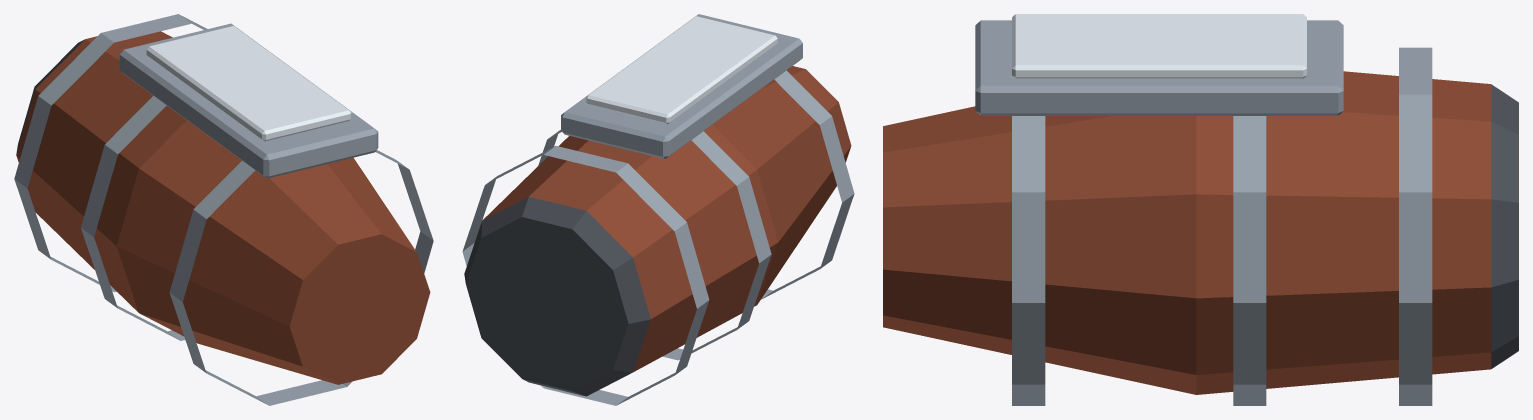
Rendered from MenuWreckEngine.fbx.
3 renders of one model, left to right at view 1: azimuth 30°, elevation 25°; view 2: azimuth 150°, elevation 25°; view 3: azimuth 270°, elevation 25°, orthographic. The views are drawn at different scales.
Parts seen in each view (by area): view 1: MenuWreckEngine; view 2: MenuWreckEngine; view 3: MenuWreckEngine.
Part boxes in pixels (bbox=[...]): MenuWreckEngine: bbox=[14, 14, 433, 405]; MenuWreckEngine: bbox=[462, 14, 854, 405]; MenuWreckEngine: bbox=[883, 14, 1518, 405].
Size of the model in its own units: 196 by 205 by 345.
